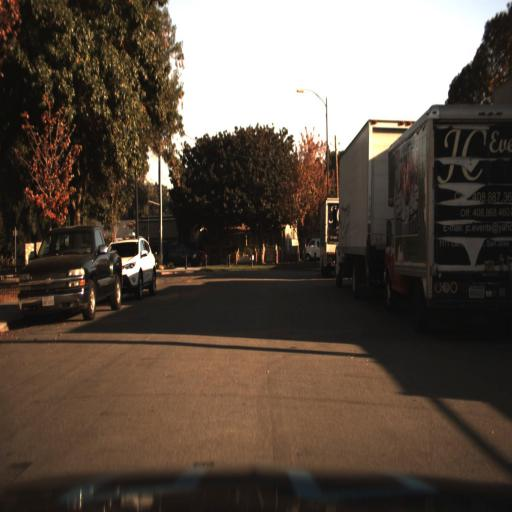car: (378, 101, 511, 320), (8, 221, 122, 337), (14, 221, 121, 329), (106, 232, 156, 301), (116, 237, 160, 299), (320, 195, 348, 284), (304, 235, 327, 266), (300, 231, 322, 261)
truck: (381, 94, 511, 334), (334, 119, 404, 303), (334, 112, 384, 316), (321, 197, 340, 272)
